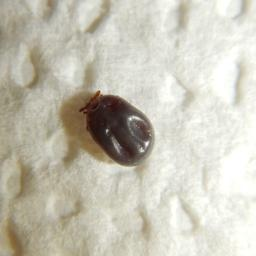Rhipicephalus sanguineus: (77, 90, 155, 168)
